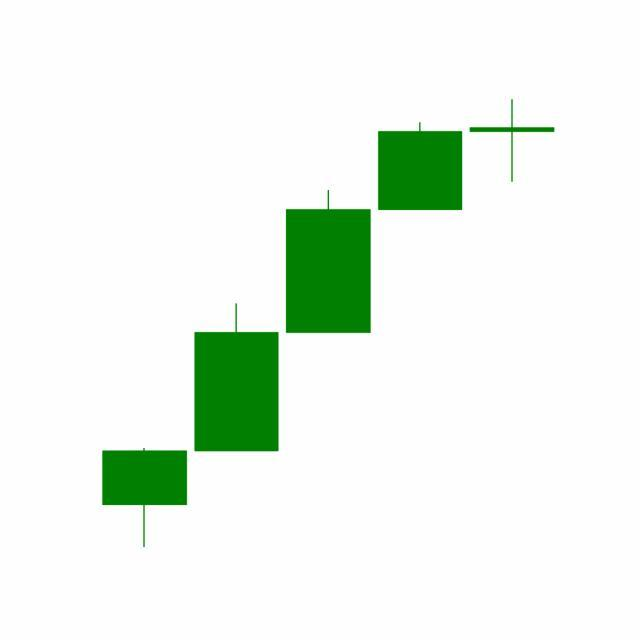Marubozu: (374, 122, 468, 212)
